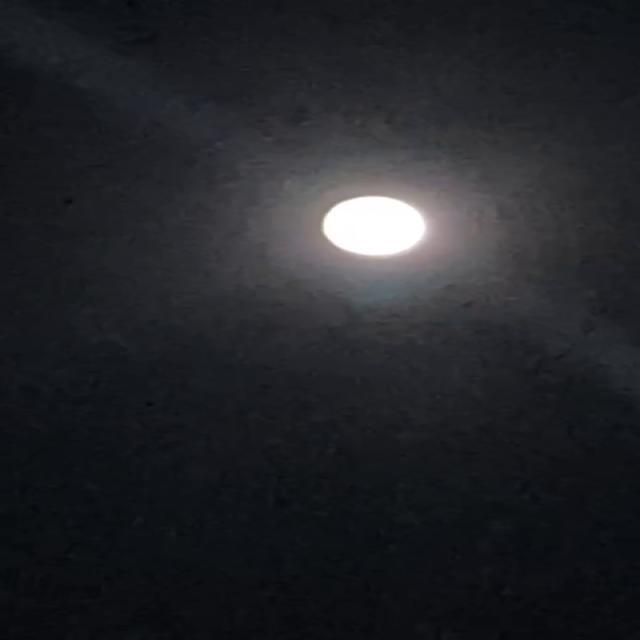moon: (313, 192, 438, 262)
